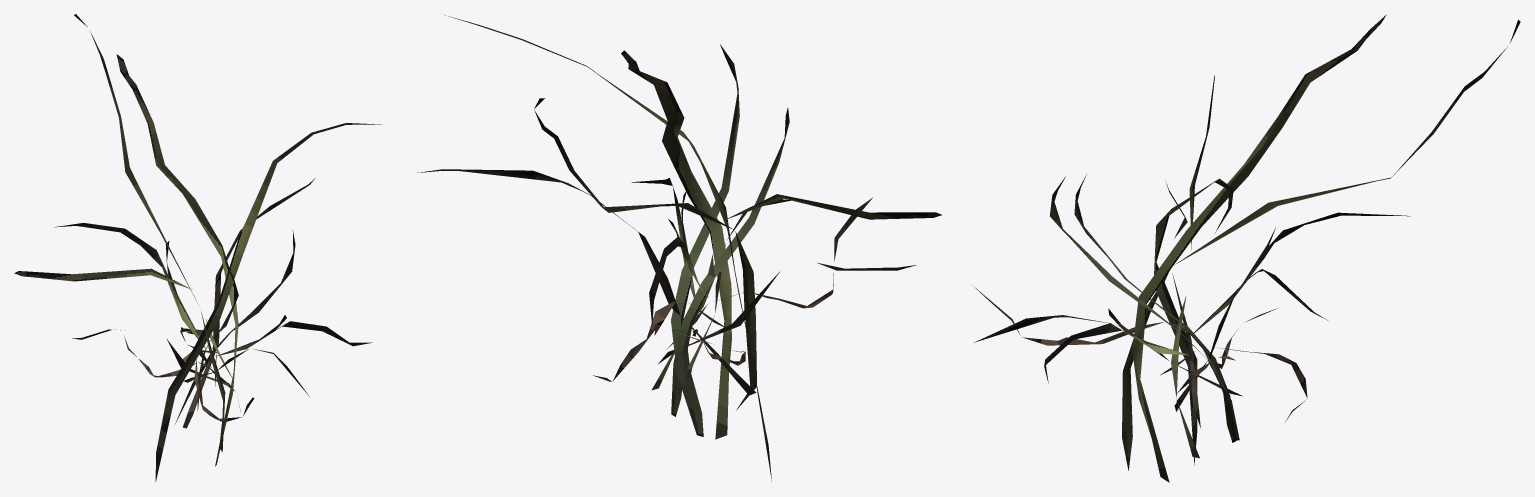
File: cover_grass_far.glb
3 views of the same model, side by side, from view 1: azimuth 30°, elevation 25°; view 2: azimuth 150°, elevation 25°; view 3: azimuth 270°, elevation 25° (orthographic). The views are drawn at different scales.
Visible parts, largest first — view 1: cover_grass_far; view 2: cover_grass_far; view 3: cover_grass_far.
Part boxes in pixels (left/top/right/bottom): cover_grass_far: left=14, top=14, right=381, bottom=482; cover_grass_far: left=417, top=15, right=941, bottom=481; cover_grass_far: left=972, top=14, right=1520, bottom=482.
Size of the model in its own units: 0.3508 by 0.3302 by 0.3464.
1 material, 1 textured.
